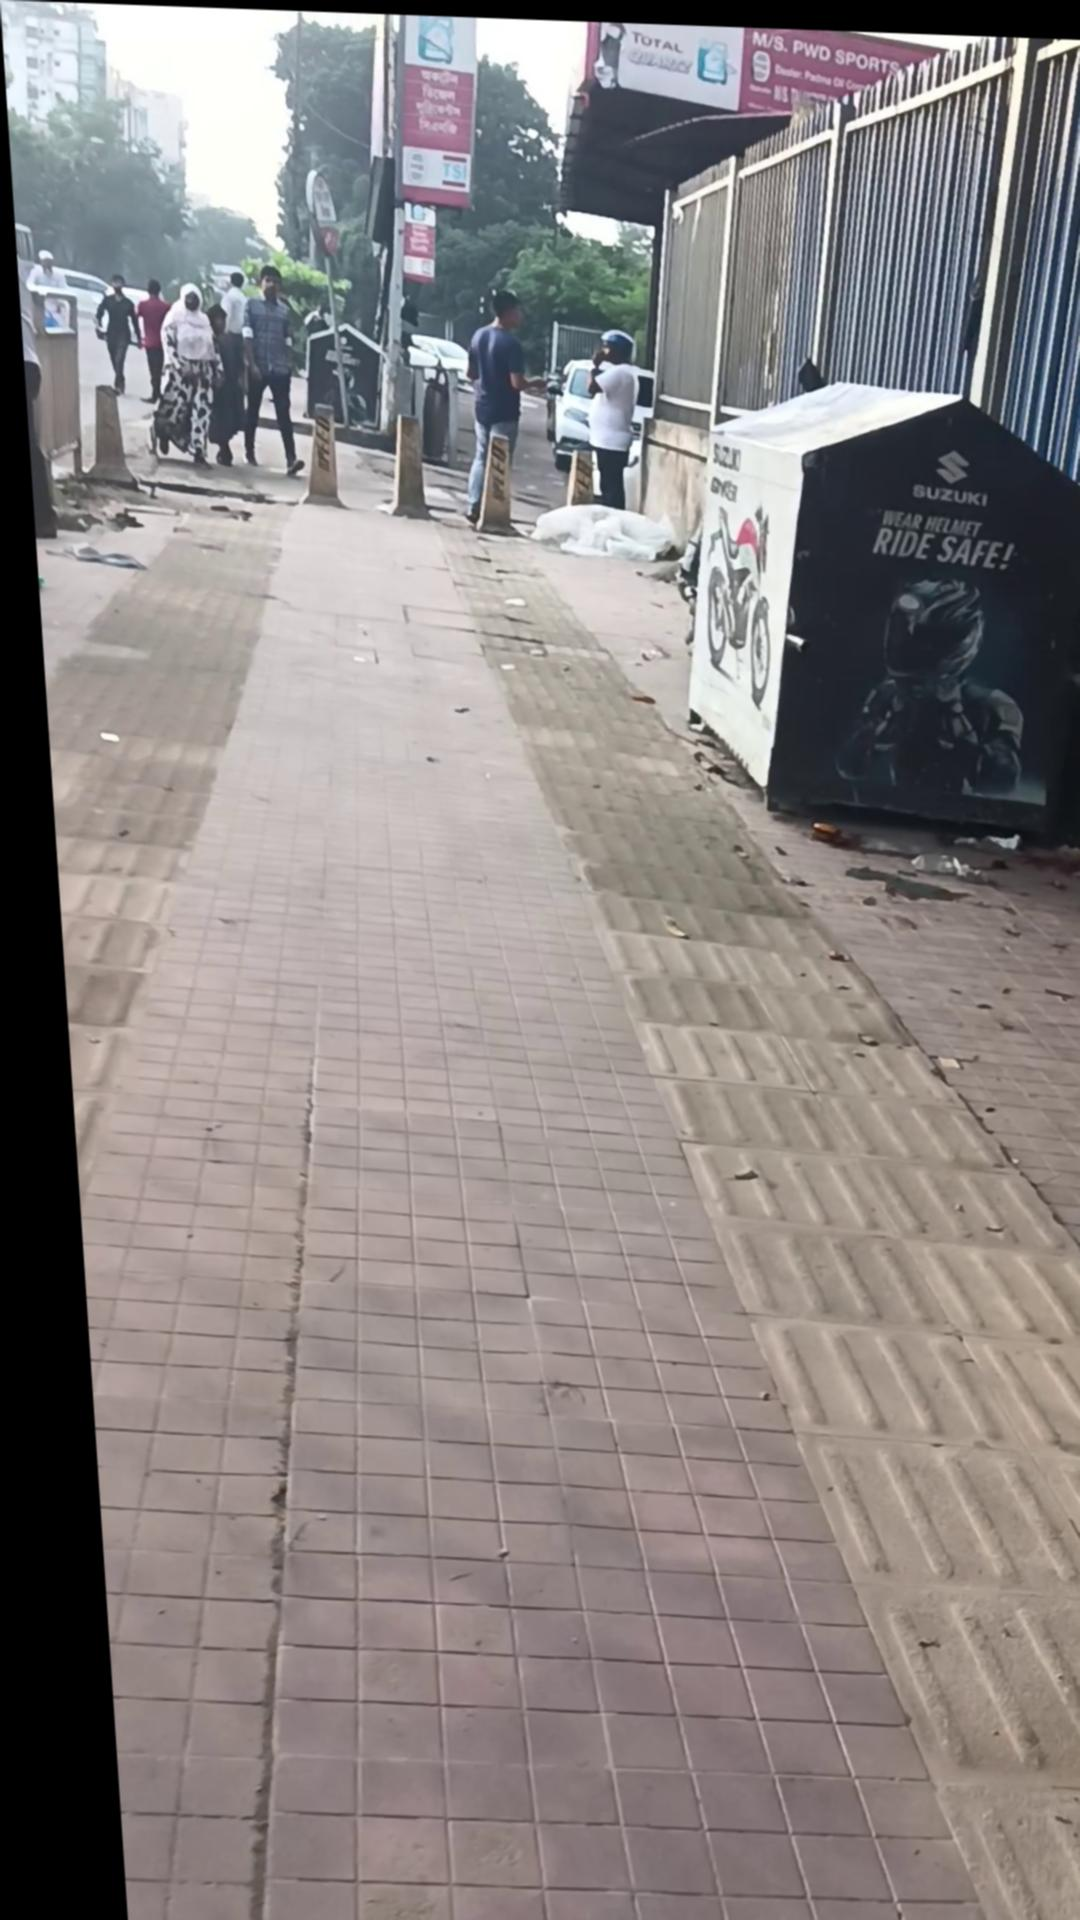Car: (535, 351, 655, 469)
Cat: (657, 367, 1080, 839)
Muddy road: (446, 284, 534, 522), (227, 261, 305, 475), (574, 322, 642, 506), (152, 281, 220, 465), (87, 272, 138, 396), (128, 277, 171, 405)
Potted-plant: (22, 439, 1080, 1920)
Rickshaw: (365, 407, 427, 517), (285, 398, 344, 506)
